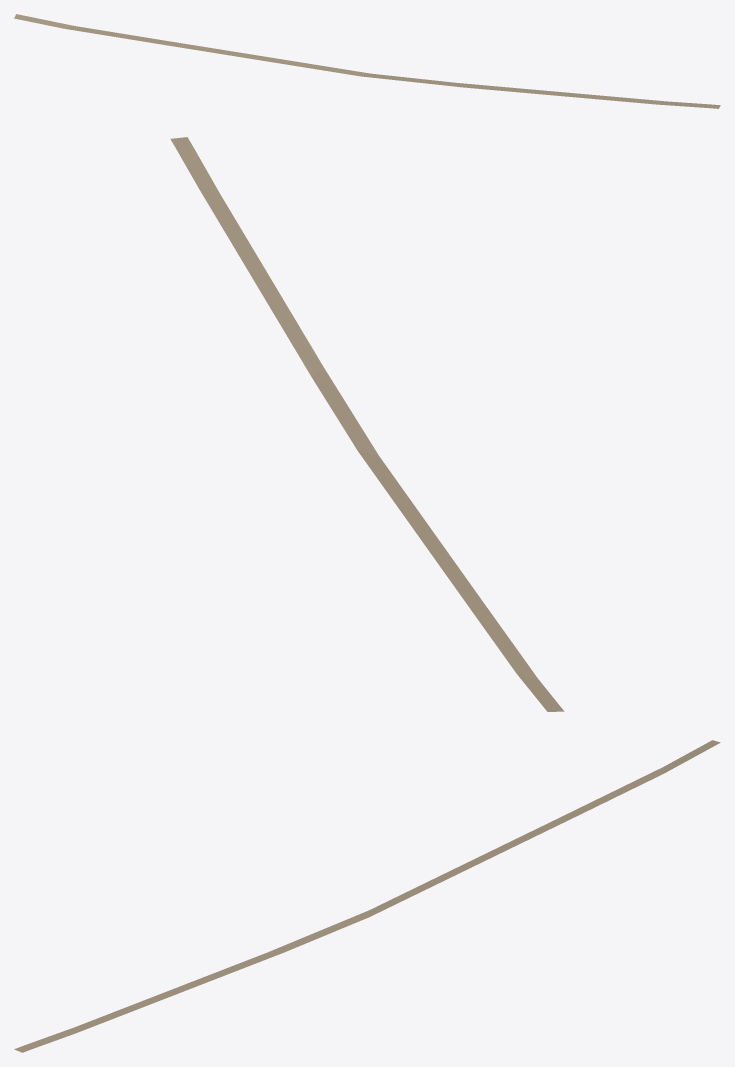
The model's file is farm_-8_0_track.glb.
3 views of the same model, one above another, from view 1: azimuth 30°, elevation 25°; view 2: azimuth 150°, elevation 25°; view 3: azimuth 270°, elevation 25° (orthographic). The views are drawn at different scales.
Visible parts, largest first — view 1: geometry_0; view 2: geometry_0; view 3: geometry_0.
Boxes of the visible parts, x1,y1,x2,y2 form: geometry_0: [14, 14, 720, 108]; geometry_0: [170, 137, 564, 711]; geometry_0: [14, 740, 720, 1052].
Bounding box in the file's own units: 192 × 7.91 × 192.
